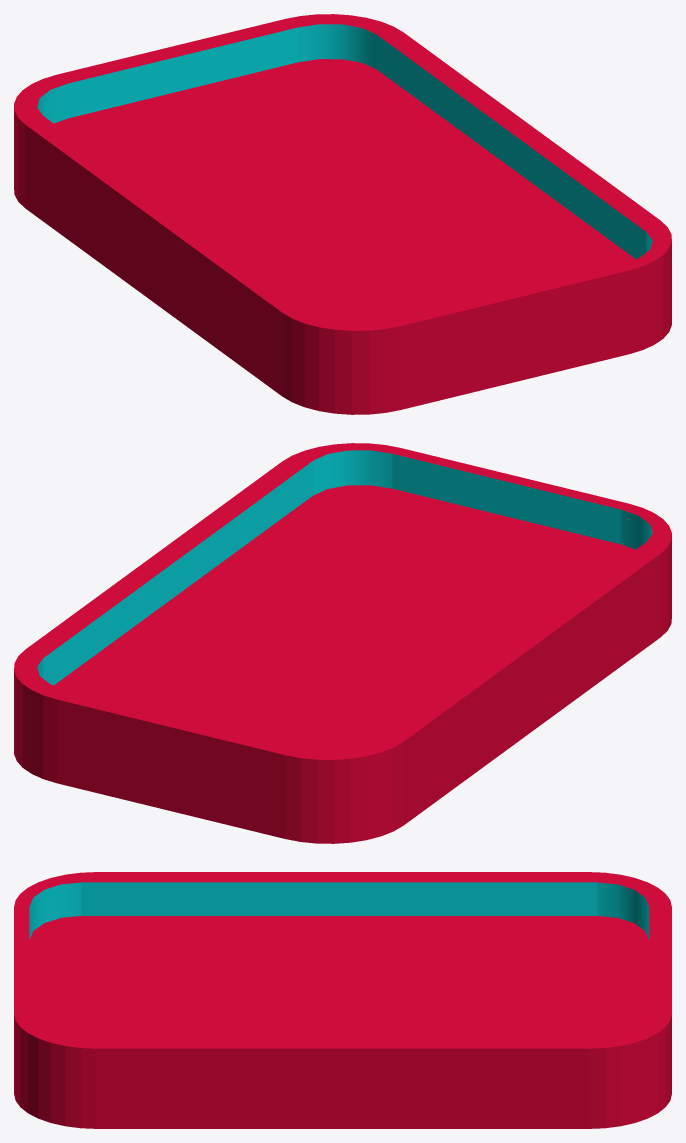
File: Basketball_platform1.fbx
3 views of the same model, one above another, from view 1: azimuth 30°, elevation 25°; view 2: azimuth 150°, elevation 25°; view 3: azimuth 270°, elevation 25° (orthographic). The views are drawn at different scales.
Visible parts, largest first — view 1: Cube.005; view 2: Cube.005; view 3: Cube.005.
Part boxes in pixels (box(x1,y1,x2,y2)): Cube.005: box(14, 14, 671, 414); Cube.005: box(14, 443, 671, 843); Cube.005: box(14, 872, 671, 1128).
Size of the model in its own units: 68.07 by 14.42 by 107.
